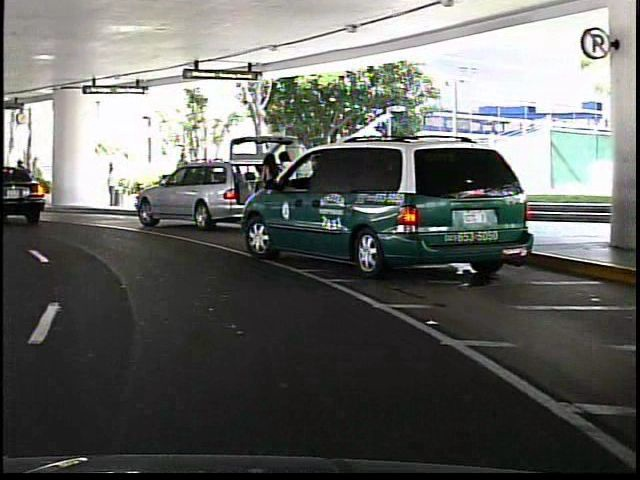person: (250, 149, 276, 227), (171, 148, 191, 204)
